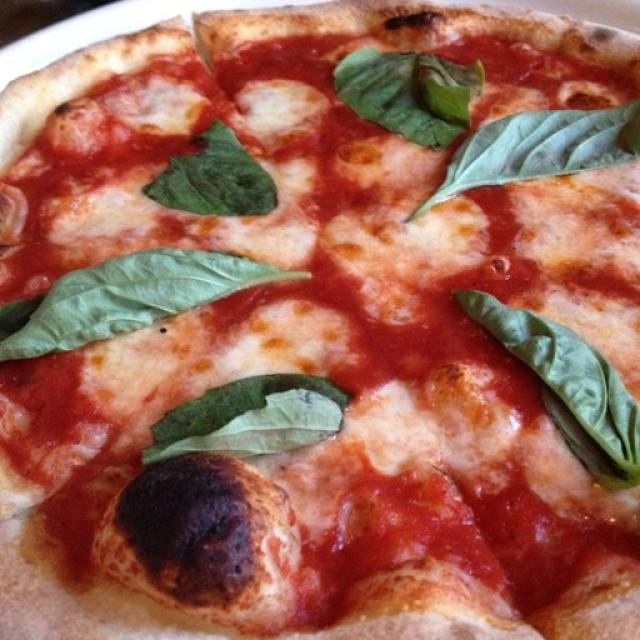Basil: (440, 280, 640, 495), (0, 250, 318, 363), (409, 103, 639, 217), (140, 372, 350, 476), (324, 40, 481, 148), (136, 114, 285, 220)
Cheese: (328, 210, 466, 273), (368, 410, 493, 465), (549, 198, 634, 268), (61, 199, 150, 247), (255, 308, 322, 366), (106, 353, 187, 397)
Pizza: (0, 0, 640, 640)
